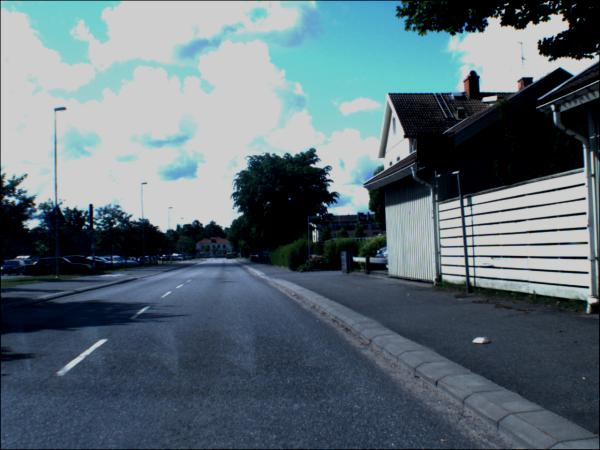50_SIGN: (418, 133, 457, 173)
PRIORITY_ROAD: (278, 236, 286, 245)
